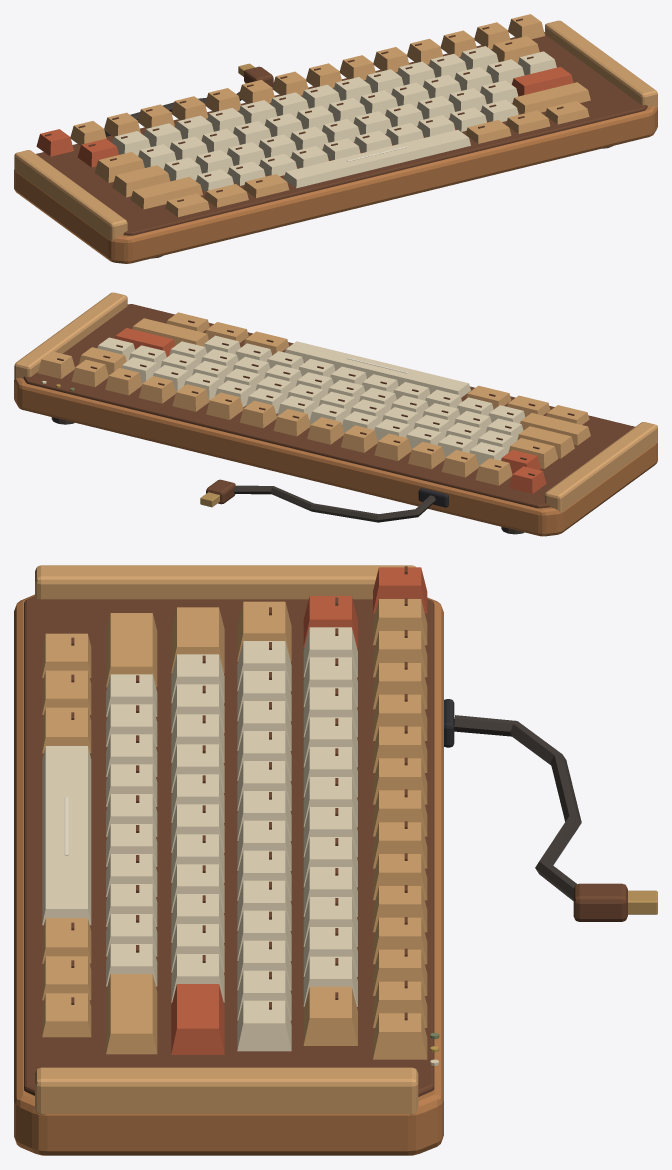
The model's file is 013_mechanical_keyboard_v01.glb.
3 views of the same model, one above another, from view 1: azimuth 30°, elevation 25°; view 2: azimuth 150°, elevation 25°; view 3: azimuth 270°, elevation 25° (orthographic). The views are drawn at different scales.
Parts seen in each view (by area): view 1: Keyboard cedar lower case, Keyboard top inset, Bottom modifier or spacebar 03, Keyboard end cheek, Keyboard end cheek.001, Key row 3 column 11, Key row 3 column 00, Key row 2 column 12, Key row 2 column 00, Key row 1 column 00, Key row 0 column 13, Key row 0 column 00 (+68 smaller); view 2: Keyboard cedar lower case, Keyboard top inset, Keyboard end cheek, Bottom modifier or spacebar 03, Keyboard end cheek.001, Keyboard braided cable, Key row 3 column 11, Key row 3 column 00, Key row 2 column 00, Key row 2 column 12, Key row 1 column 00, Function key 13 (+70 smaller); view 3: Keyboard top inset, Keyboard cedar lower case, Keyboard end cheek.001, Keyboard end cheek, Bottom modifier or spacebar 03, Keyboard braided cable, Key row 3 column 11, Key row 2 column 12, Key row 3 column 00, Key row 0 column 13, Key row 1 column 13, Key row 2 column 00 (+69 smaller).
Boxes of the visible parts, x1=… form: Keyboard cedar lower case: x1=14, y1=106, x2=657, y2=263; Keyboard top inset: x1=36, y1=32, x2=647, y2=235; Bottom modifier or spacebar 03: x1=284, y1=130, x2=470, y2=188; Keyboard end cheek: x1=14, y1=150, x2=127, y2=241; Keyboard end cheek.001: x1=545, y1=20, x2=657, y2=107; Key row 3 column 11: x1=512, y1=82, x2=590, y2=113; Key row 3 column 00: x1=130, y1=177, x2=202, y2=209; Key row 2 column 12: x1=511, y1=67, x2=573, y2=96; Key row 2 column 00: x1=112, y1=165, x2=170, y2=197; Key row 1 column 00: x1=94, y1=152, x2=144, y2=182; Key row 0 column 13: x1=492, y1=36, x2=539, y2=63; Key row 0 column 00: x1=77, y1=138, x2=118, y2=167; Keyboard cedar lower case: x1=14, y1=378, x2=657, y2=536; Keyboard top inset: x1=23, y1=304, x2=634, y2=508; Keyboard end cheek: x1=545, y1=422, x2=657, y2=512; Bottom modifier or spacebar 03: x1=285, y1=341, x2=470, y2=397; Keyboard end cheek.001: x1=14, y1=292, x2=127, y2=378; Keyboard braided cable: x1=233, y1=485, x2=435, y2=522; Key row 3 column 11: x1=132, y1=318, x2=208, y2=346; Key row 3 column 00: x1=520, y1=413, x2=590, y2=445; Key row 2 column 00: x1=517, y1=426, x2=574, y2=458; Key row 2 column 12: x1=115, y1=328, x2=175, y2=357; Key row 1 column 00: x1=508, y1=438, x2=558, y2=468; Function key 13: x1=71, y1=359, x2=108, y2=387; Keyboard top inset: x1=24, y1=596, x2=434, y2=1096; Keyboard cedar lower case: x1=14, y1=594, x2=443, y2=1155; Keyboard end cheek.001: x1=35, y1=1067, x2=418, y2=1114; Keyboard end cheek: x1=35, y1=565, x2=415, y2=599; Bottom modifier or spacebar 03: x1=42, y1=746, x2=91, y2=925; Keyboard braided cable: x1=454, y1=715, x2=581, y2=900; Key row 3 column 11: x1=106, y1=974, x2=157, y2=1054; Key row 2 column 12: x1=171, y1=984, x2=224, y2=1054; Key row 3 column 00: x1=106, y1=613, x2=157, y2=687; Key row 0 column 13: x1=303, y1=986, x2=357, y2=1045; Key row 1 column 13: x1=237, y1=1000, x2=291, y2=1051; Key row 2 column 00: x1=171, y1=607, x2=224, y2=673.
Size of the model in its own units: 0.814 by 0.0836 by 0.427.
